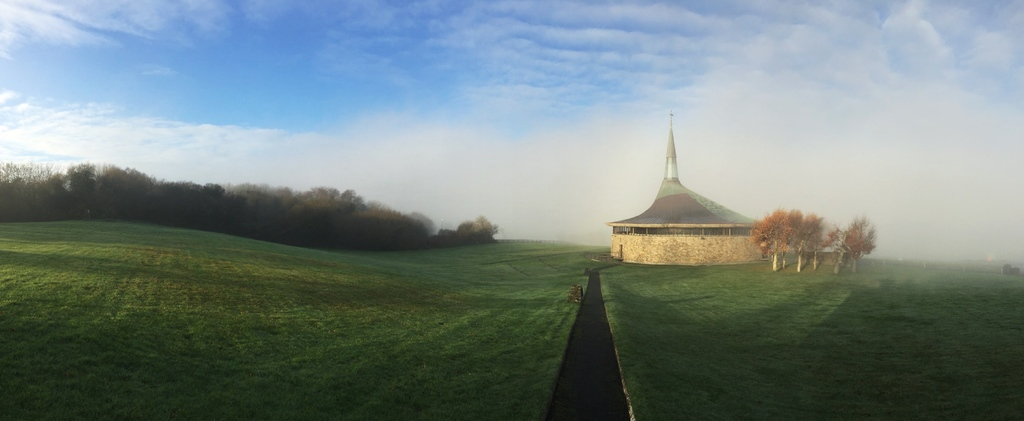Tree: (104, 168, 257, 238), (826, 210, 879, 268), (755, 208, 791, 271), (792, 210, 835, 260), (336, 181, 373, 238), (69, 163, 100, 219), (309, 185, 336, 242), (458, 214, 501, 248), (410, 209, 433, 237)
